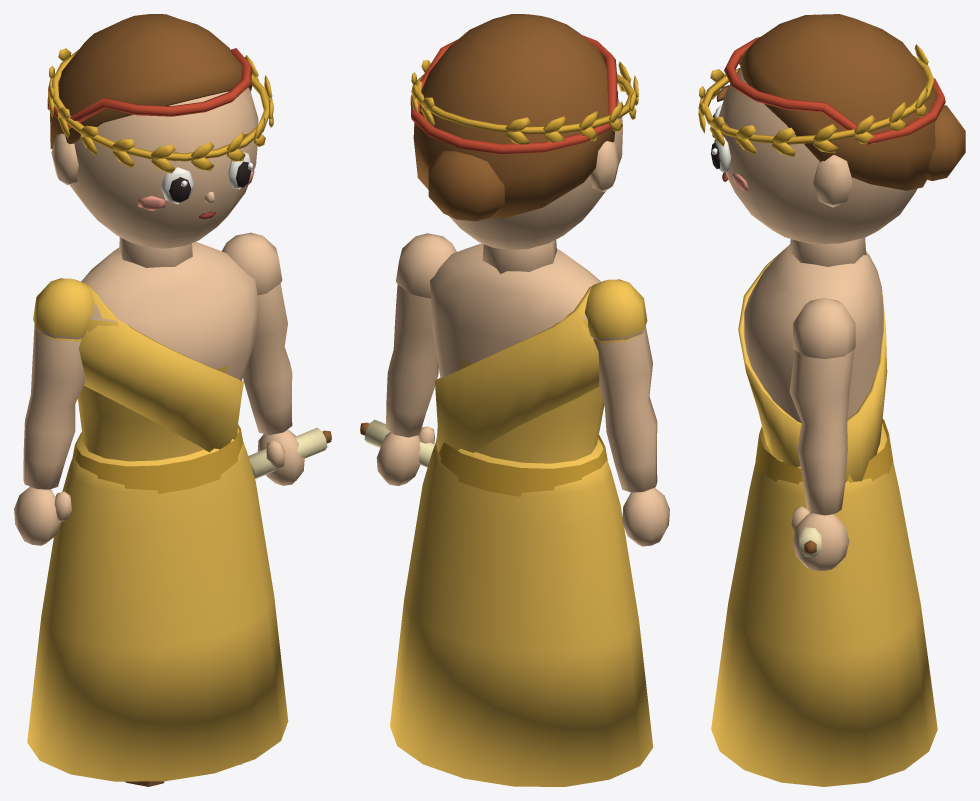
File: kalliope.glb
3 renders of one model, left to right at view 1: azimuth 30°, elevation 25°; view 2: azimuth 150°, elevation 25°; view 3: azimuth 270°, elevation 25°, orthographic.
Visible parts, largest first — view 1: huefte, rumpf, kopf, haare, armL, armR, kopfschmuck, itemR, augeL, augeR; view 2: huefte, rumpf, haare, armL, armR, kopf, kopfschmuck, itemR; view 3: huefte, haare, rumpf, kopf, armR, kopfschmuck, itemR, augeR.
Boxes of the visible parts, box(x1,y1,x2,y2) form: huefte: box(27, 428, 288, 781); rumpf: box(72, 241, 259, 493); kopf: box(51, 87, 258, 267); haare: box(47, 14, 252, 148); armL: box(14, 278, 94, 545); armR: box(222, 232, 304, 485); kopfschmuck: box(48, 48, 273, 173); itemR: box(248, 427, 331, 478); augeL: box(160, 167, 194, 204); augeR: box(228, 152, 252, 189); huefte: box(390, 438, 653, 786); rumpf: box(430, 243, 607, 496); haare: box(410, 14, 617, 221); armL: box(585, 279, 669, 546); armR: box(376, 233, 456, 485); kopf: box(449, 98, 622, 273); kopfschmuck: box(411, 60, 638, 144); itemR: box(360, 419, 434, 467); huefte: box(711, 423, 937, 786); haare: box(724, 14, 965, 190); rumpf: box(738, 244, 893, 484); kopf: box(718, 67, 916, 266); armR: box(789, 297, 855, 571); kopfschmuck: box(698, 44, 934, 157); itemR: box(799, 512, 821, 556); augeR: box(711, 136, 731, 172).
Size of the model in its own units: 1.02 by 2.29 by 0.7668.
